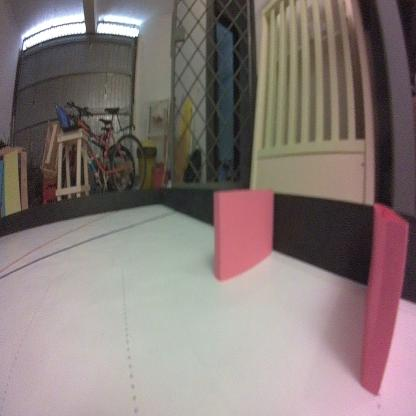magenta: (362, 203, 408, 398), (211, 189, 276, 283)
